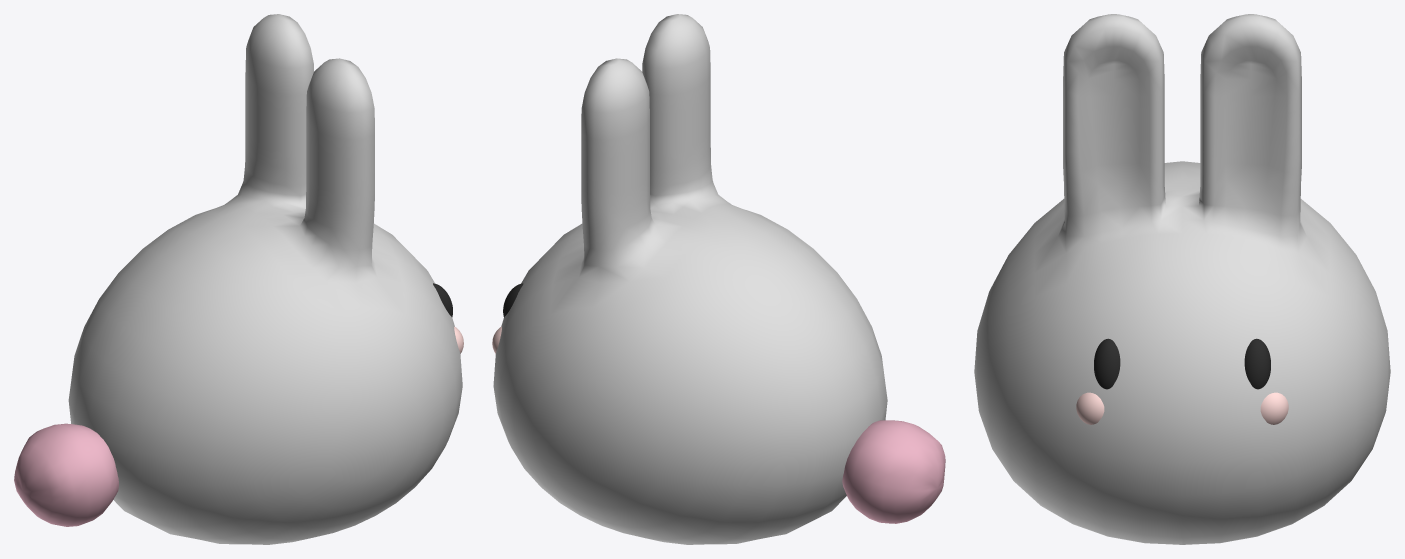
Rendered from bunnyModel.fbx.
3 views of the same model, side by side, from view 1: azimuth 30°, elevation 25°; view 2: azimuth 150°, elevation 25°; view 3: azimuth 270°, elevation 25° (orthographic). The views are drawn at different scales.
Visible parts, largest first — view 1: bunnyModel; view 2: bunnyModel; view 3: bunnyModel.
Boxes of the visible parts, x1,y1,x2,y2 form: bunnyModel: [14, 14, 463, 544]; bunnyModel: [492, 14, 945, 544]; bunnyModel: [974, 14, 1390, 544].
Bounding box in the file's own units: 119 × 126 × 90.64.
